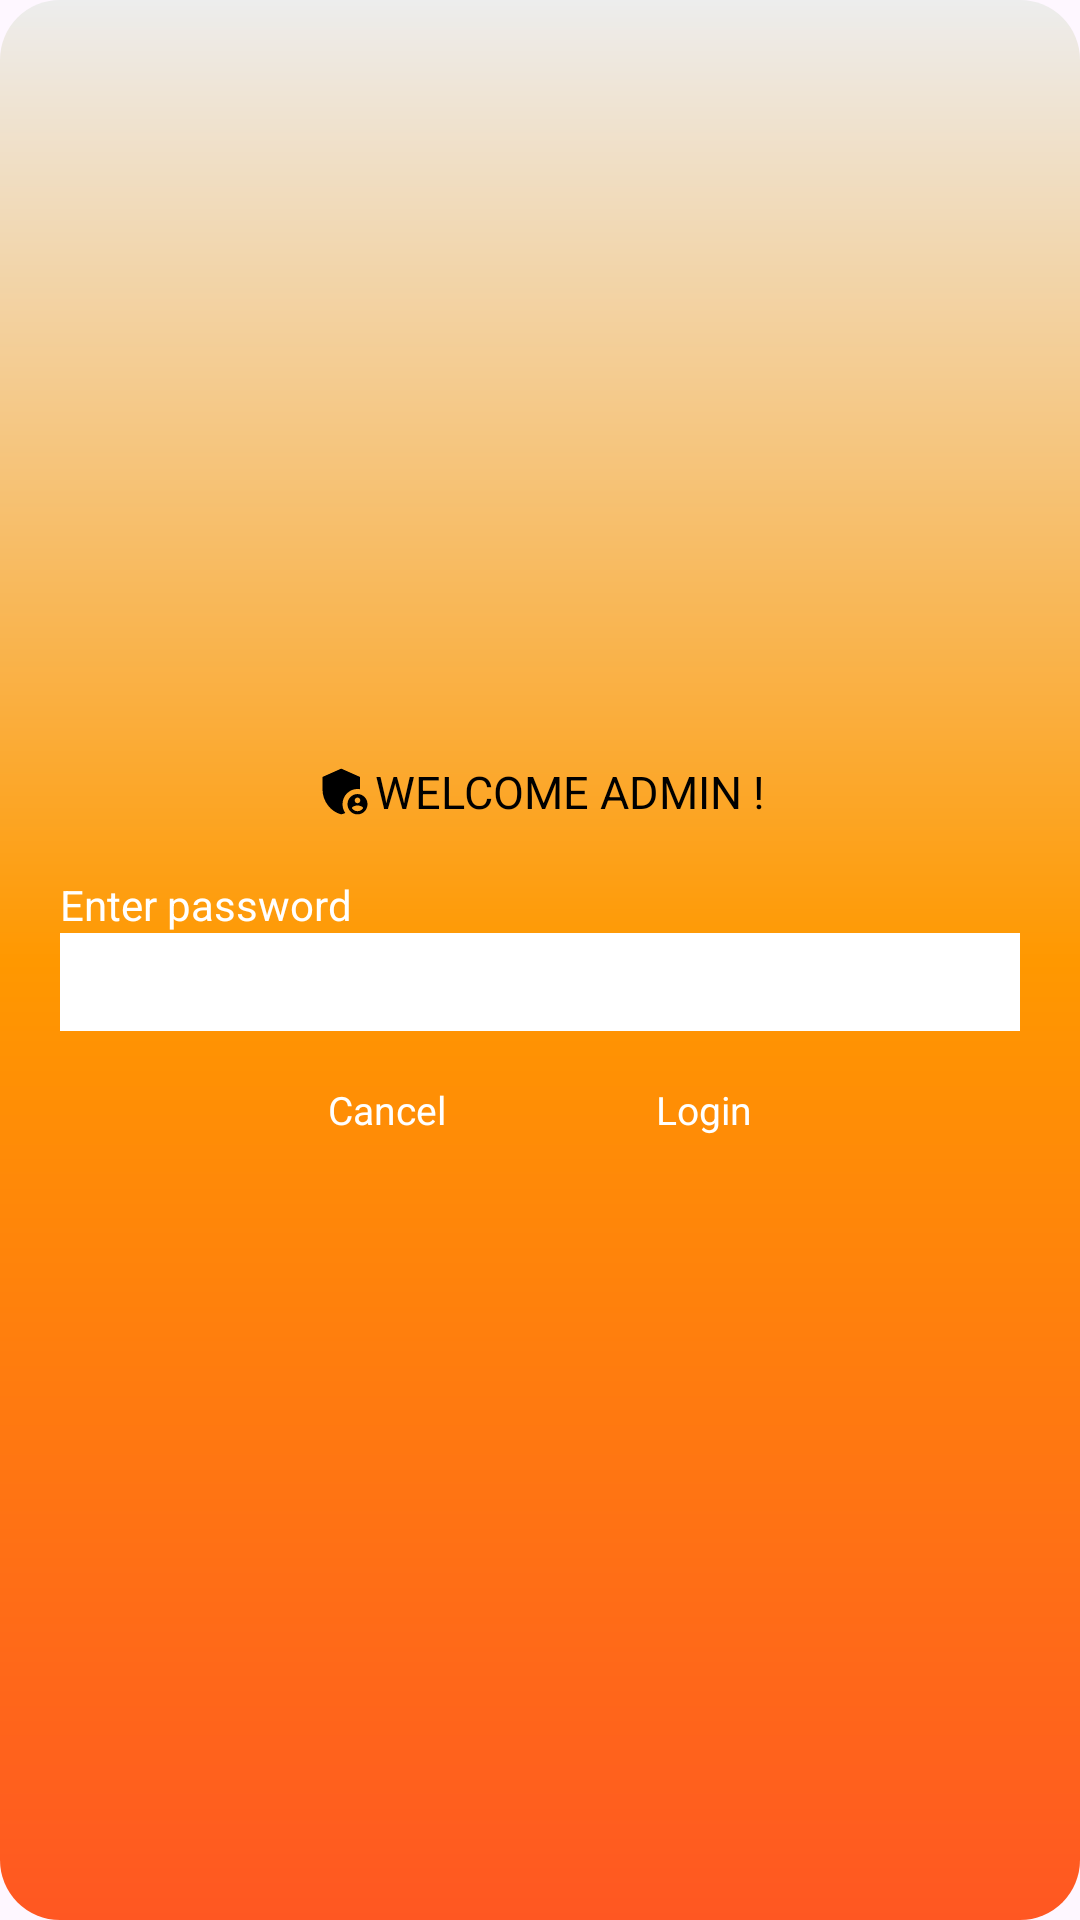

Where icons sit on this 1080 x 1920 app screen, as (x1, y1, x2, y2):
dialouge admin: (322, 768, 368, 815)
